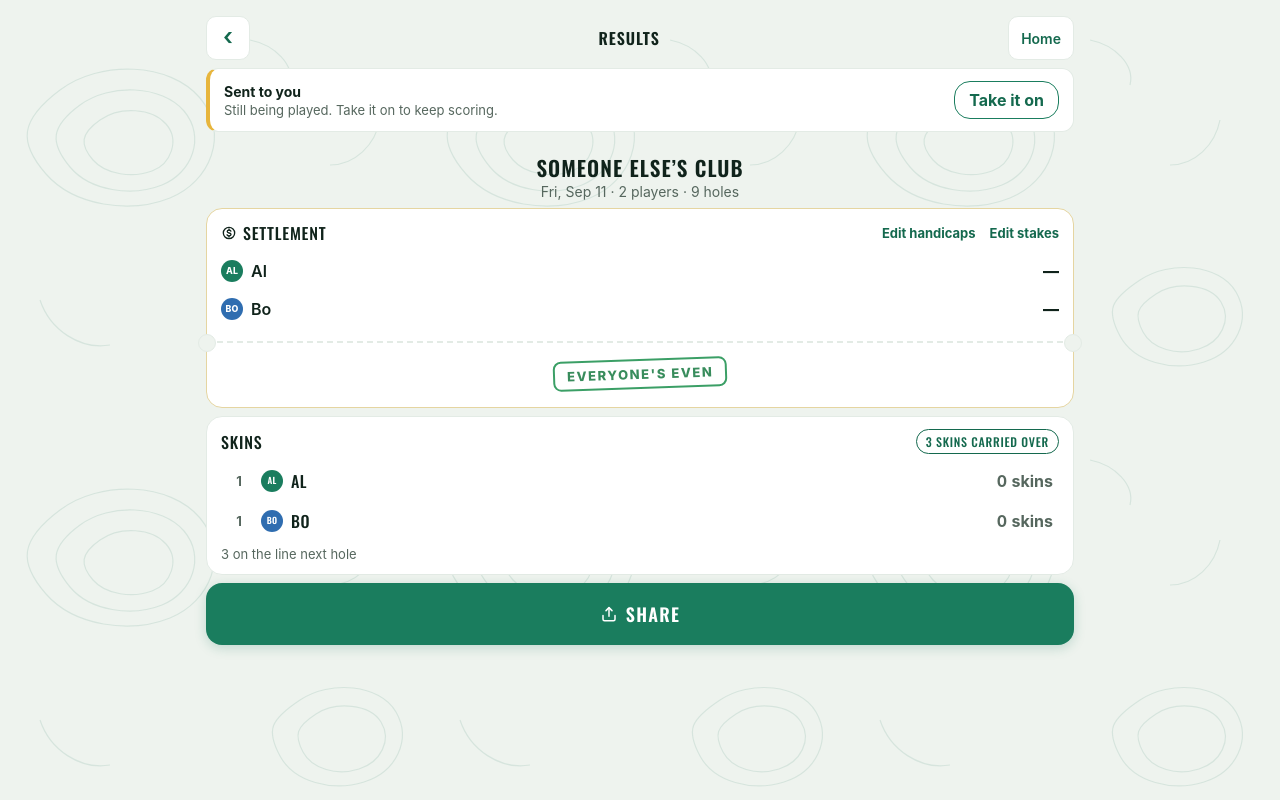
a round that is still being played › offers to take it on, and goes to the card once taken
The image size is (1280, 800).
Expected: the heading "Results" is shown, x1=598 y1=26 x2=660 y2=50
Expected: the text "Still being played. Take it on to keep scoring." is shown, x1=224 y1=102 x2=498 y2=118
Click the button "Take it on": (1007, 100) x1=954 y1=81 x2=1059 y2=119
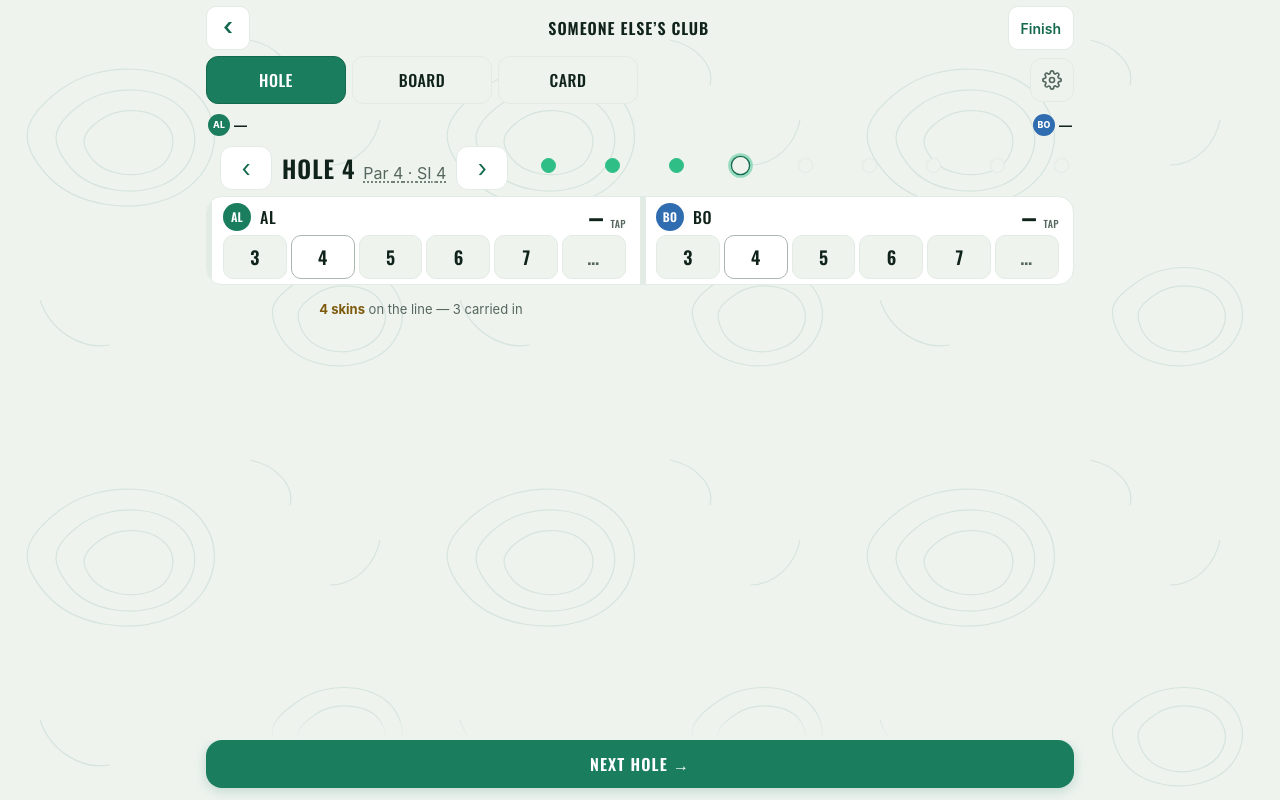
Now the button "›" is shown, box x1=456 y1=146 x2=508 y2=190
